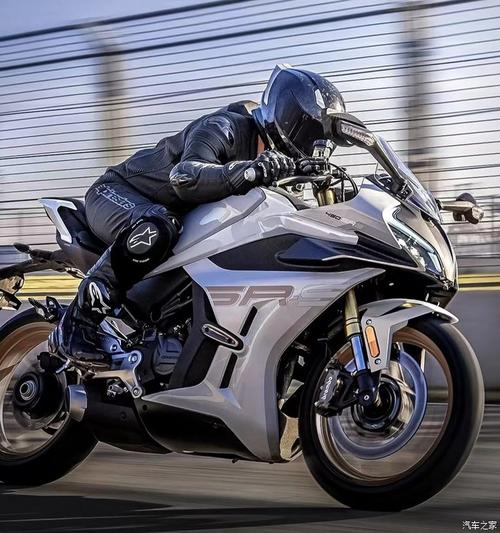摩托车: (1, 176, 487, 514)
